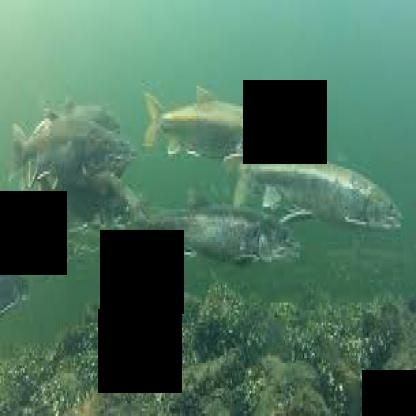fish: (223, 134, 400, 230), (118, 183, 304, 270), (138, 89, 287, 169)
